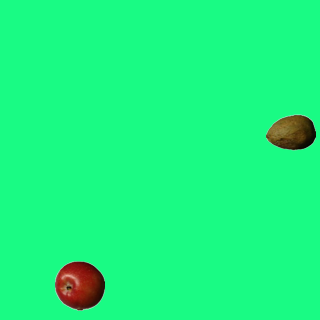Apple Braeburn: (54, 260, 104, 310)
Papaya: (265, 107, 315, 157)
